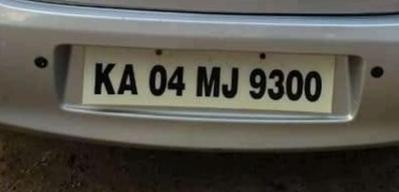0: (147, 61, 169, 98), (304, 67, 324, 103), (287, 67, 305, 104)
3: (268, 63, 286, 103)
4: (166, 59, 186, 99)
9: (248, 63, 268, 102)
A: (117, 60, 140, 98)
J: (221, 63, 240, 101)
K: (92, 61, 116, 97)
M: (194, 62, 221, 100)
